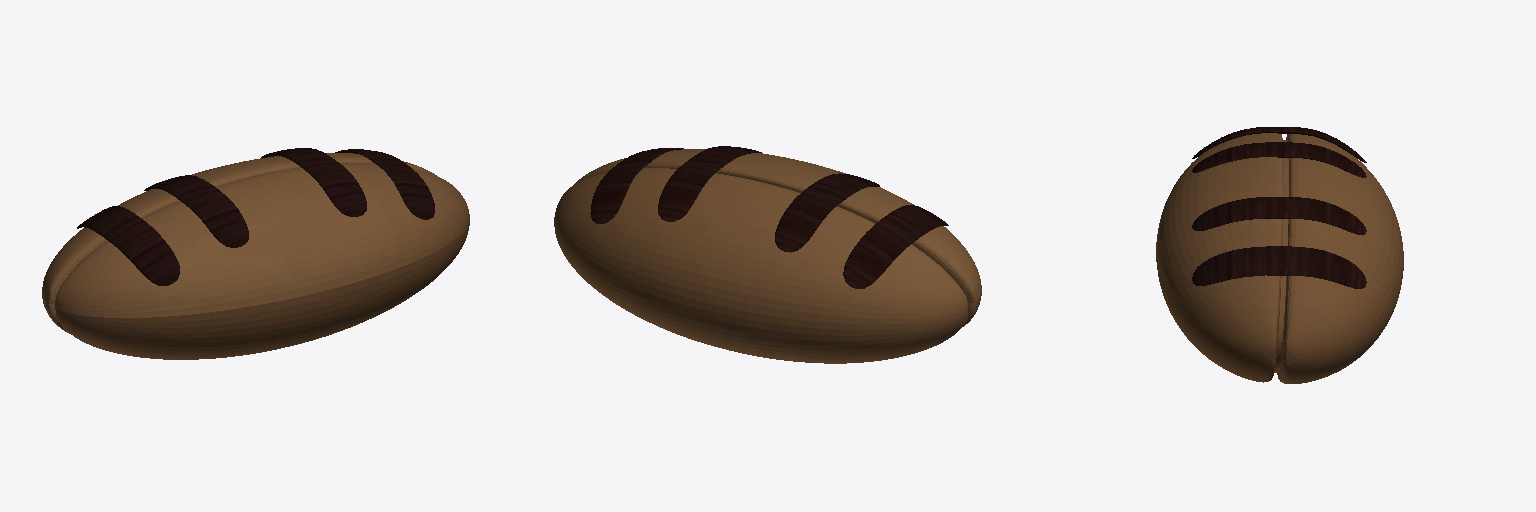
3 renders of one model, left to right at view 1: azimuth 30°, elevation 25°; view 2: azimuth 150°, elevation 25°; view 3: azimuth 270°, elevation 25°, orthographic.
Visible parts, largest first — view 1: BalonAmericano; view 2: BalonAmericano; view 3: BalonAmericano.
Part boxes in pixels (left/top/right/bottom): BalonAmericano: left=42, top=148, right=469, bottom=359; BalonAmericano: left=554, top=146, right=981, bottom=363; BalonAmericano: left=1156, top=127, right=1403, bottom=383.
Bounding box in the file's own units: 1.49 × 0.5681 × 0.7832.
Materials: 2 (2 with a texture image).